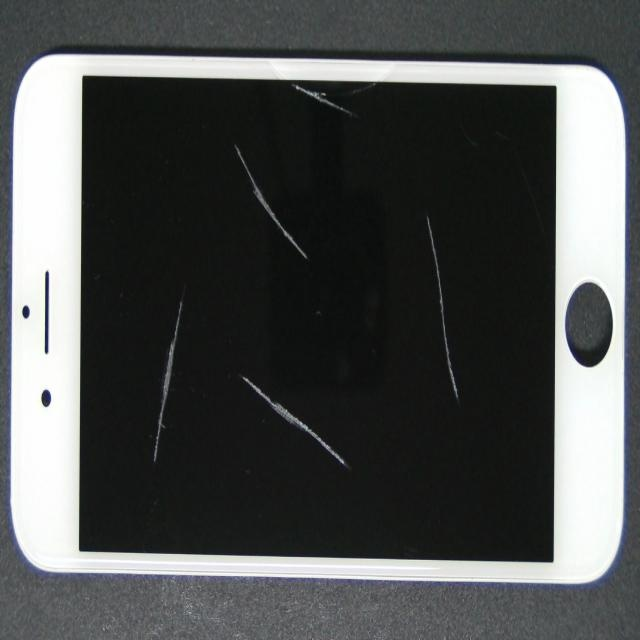scratch: (92, 8, 377, 288), (107, 48, 248, 513)
